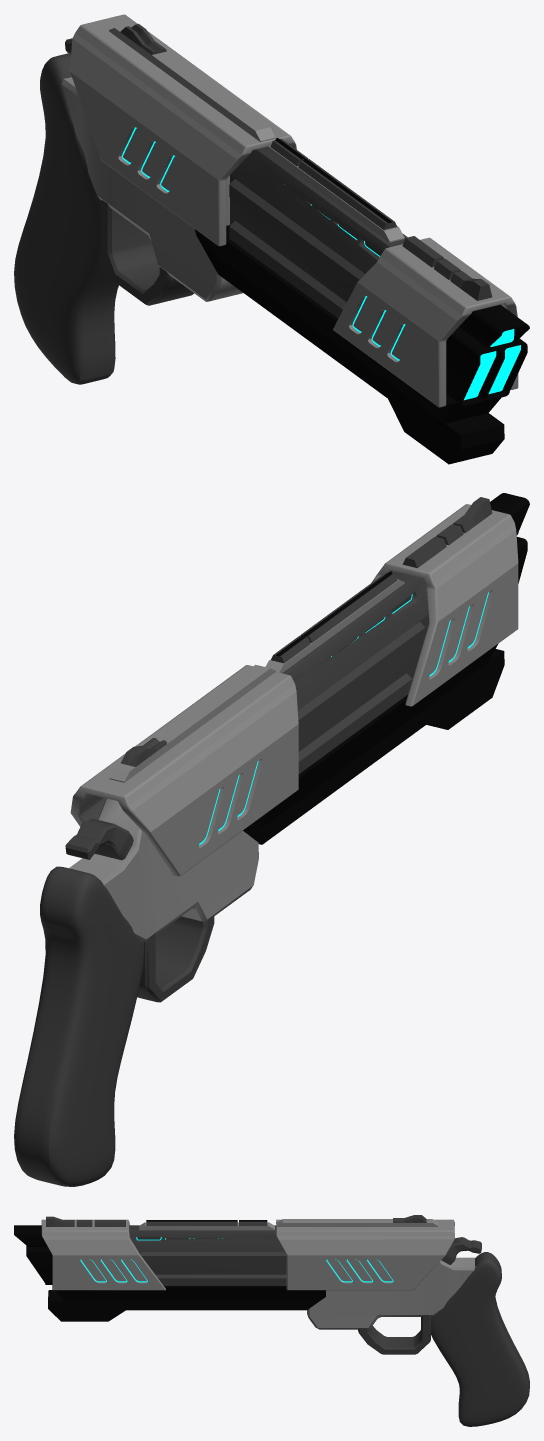
The model's file is EnergyPistol.fbx.
3 renders of one model, top to bottom at view 1: azimuth 30°, elevation 25°; view 2: azimuth 150°, elevation 25°; view 3: azimuth 270°, elevation 25°, orthographic. The views are drawn at different scales.
Parts seen in each view (by area): view 1: Cube.015, Cube.004, Cube, Cube.014, Cube.003, Cube.005, Cube.018, Cube.017, Cube.022, Cube.016, Cube.021, Cube.009 (+4 smaller); view 2: Cube.004, Cube.015, Cube, Cube.005, Cube.014, Cube.003, Cube.018, Cube.017, Cube.016, Cube.020, Cube.009, Cube.002 (+1 smaller); view 3: Cube.004, Cube.015, Cube.014, Cube, Cube.005, Cube.003, Cube.018, Cube.017, Cube.016, Cube.009, Cube.022, Cube.021 (+2 smaller).
Part boxes in pixels (box(x1,y1,x2,y2)): Cube.015: box(70, 14, 296, 246); Cube.004: box(14, 53, 118, 384); Cube: box(333, 237, 518, 407); Cube.014: box(195, 225, 504, 464); Cube.003: box(230, 147, 407, 301); Cube.005: box(61, 77, 242, 301); Cube.018: box(229, 179, 364, 318); Cube.017: box(101, 199, 193, 305); Cube.022: box(446, 327, 527, 406); Cube.016: box(109, 24, 275, 142); Cube.021: box(458, 304, 529, 350); Cube.009: box(262, 146, 404, 242); Cube.004: box(14, 866, 143, 1186); Cube.015: box(70, 665, 298, 876); Cube: box(371, 504, 518, 706); Cube.005: box(69, 798, 258, 942); Cube.014: box(243, 644, 504, 844); Cube.003: box(282, 571, 428, 751); Cube.018: box(298, 621, 425, 773); Cube.017: box(137, 915, 214, 1002); Cube.016: box(109, 664, 275, 782); Cube.020: box(65, 818, 133, 860); Cube.009: box(265, 579, 404, 673); Cube.002: box(300, 572, 397, 642); Cube.004: box(431, 1252, 529, 1426); Cube.015: box(276, 1219, 454, 1290); Cube.014: box(48, 1286, 325, 1321); Cube: box(41, 1219, 165, 1290); Cube.005: box(307, 1257, 475, 1329); Cube.003: box(129, 1225, 286, 1285); Cube.018: box(140, 1252, 286, 1285); Cube.017: box(358, 1315, 430, 1354); Cube.016: box(277, 1219, 438, 1226); Cube.009: box(139, 1222, 274, 1230); Cube.022: box(26, 1247, 52, 1284); Cube.021: box(14, 1225, 47, 1246).
Size of the model in its own units: 43.15 by 199 by 451.
